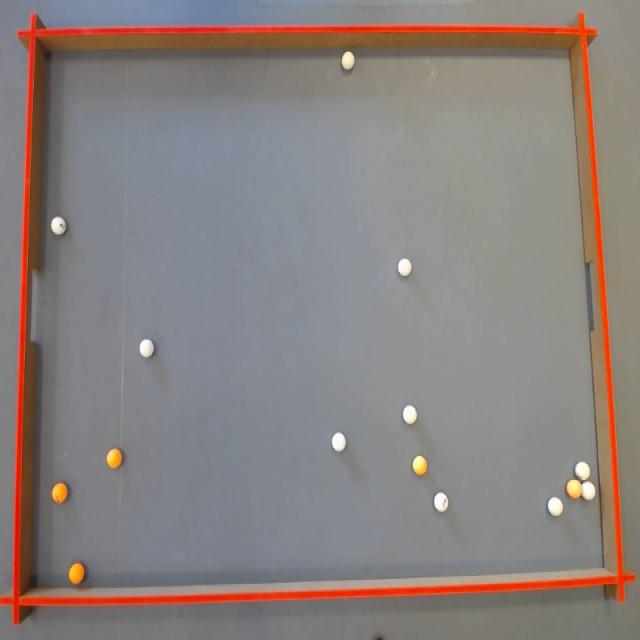orange_ball: (68, 563, 85, 584), (52, 483, 68, 503), (566, 479, 582, 499), (107, 448, 122, 468), (412, 456, 427, 475)
white_ball: (575, 461, 590, 481), (402, 405, 417, 424), (139, 339, 154, 358), (548, 497, 563, 516), (51, 217, 66, 236), (581, 482, 596, 501), (434, 492, 448, 512), (332, 433, 346, 452), (398, 258, 411, 276), (342, 51, 354, 69)
